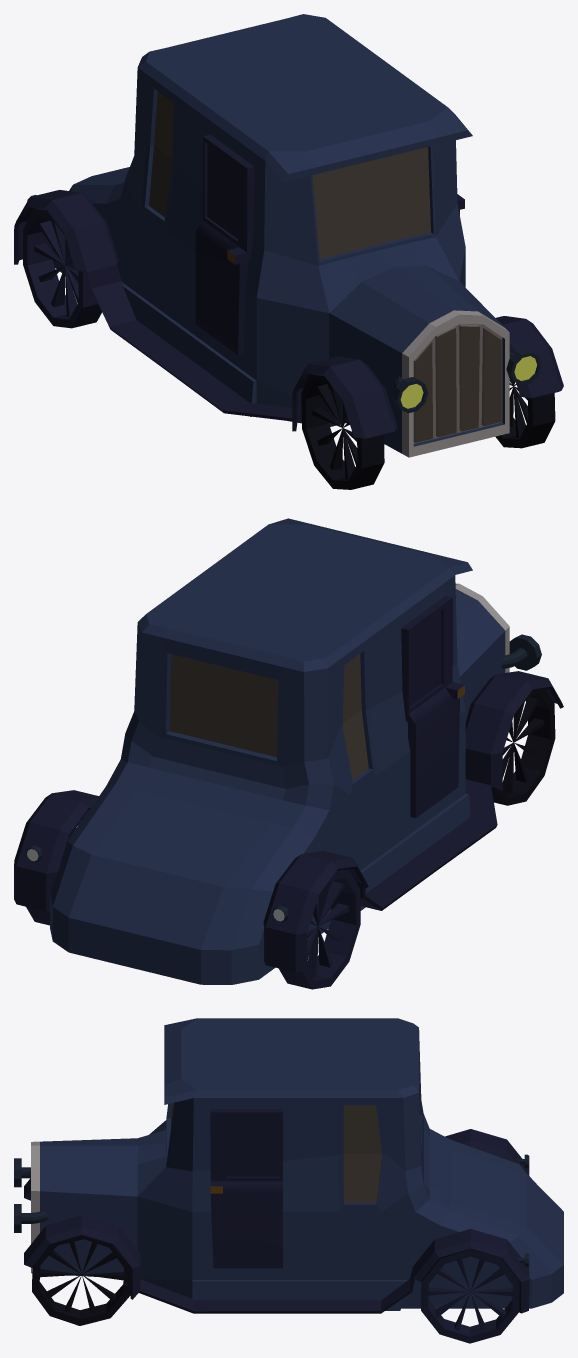
Rendered from CasualCarGarage.fbx.
3 views of the same model, one above another, from view 1: azimuth 30°, elevation 25°; view 2: azimuth 150°, elevation 25°; view 3: azimuth 270°, elevation 25° (orthographic). The views are drawn at different scales.
Parts seen in each view (by area): view 1: Car_Casual_Lights, wheel_front_right, wheel_back_right, wheel_front_left, Car_Casual.002; view 2: Car_Casual_Lights, wheel_back_right, wheel_front_right; view 3: Car_Casual_Lights, wheel_back_left, wheel_front_left.
Boxes of the visible parts, left/top/right/bottom form: Car_Casual_Lights: left=14, top=14, right=563, bottom=457; wheel_front_right: left=301, top=374, right=384, bottom=489; wheel_back_right: left=23, top=208, right=101, bottom=328; wheel_front_left: left=495, top=379, right=555, bottom=448; Car_Casual.002: left=400, top=356, right=536, bottom=408; Car_Casual_Lights: left=14, top=518, right=563, bottom=984; wheel_back_right: left=278, top=869, right=360, bottom=989; wheel_front_right: left=491, top=689, right=555, bottom=805; Car_Casual_Lights: left=14, top=1018, right=563, bottom=1313; wheel_back_left: left=421, top=1249, right=519, bottom=1343; wheel_front_left: left=32, top=1236, right=130, bottom=1325.
Size of the model in its own units: 1.79 by 1.66 by 3.54.
